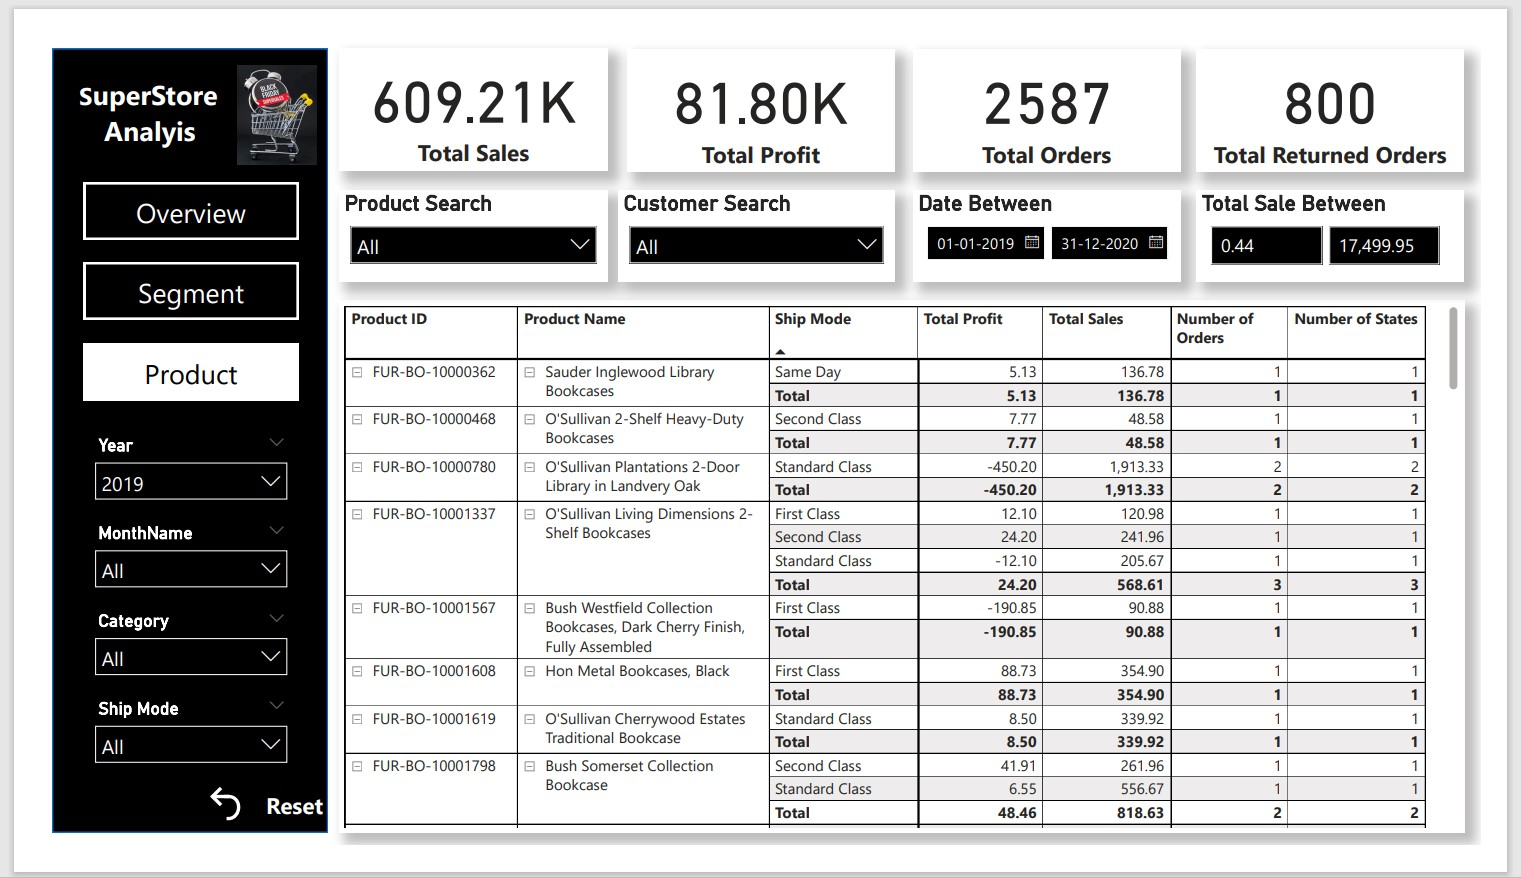

What the dashboard file says about the page in this screenshot:
{"tool":"powerbi","page":{"name":"Product","canvas":[1280,720],"ordinal":1},"visuals":[{"type":"shape","title":"SUPERSTORE","box":[9.8,12.2,245.7,696.8],"z":0},{"type":"textbox","box":[29.3,30.6,135.7,79.5],"z":1000},{"type":"image","box":[165,22,90.5,97.8],"z":2000},{"type":"actionButton","box":[37.9,130.8,190.7,51.3],"z":3000},{"type":"actionButton","box":[37.9,265.3,190.7,51.3],"z":4000},{"type":"actionButton","box":[37.9,193.1,190.7,51.3],"z":5000},{"type":"slicer","fields":{"Values":["Orders.Year"]},"box":[37.9,349.6,190.7,68.5],"z":6000},{"type":"slicer","fields":{"Values":["Orders.MonthName"]},"box":[37.9,427.8,190.7,78.2],"z":7000},{"type":"slicer","fields":{"Values":["Orders.Category"]},"box":[37.9,506.1,190.7,78.2],"z":8000},{"type":"slicer","fields":{"Values":["Orders.Ship Mode"]},"box":[37.9,584.3,190.7,78.2],"z":9000},{"type":"card","fields":{"Values":["Orders.Total Sales"]},"box":[265.3,12.2,238.4,108.8],"z":10000},{"type":"card","fields":{"Values":["Orders.Total Profit"]},"box":[520.7,13.4,238.4,108.8],"z":11000},{"type":"card","fields":{"Values":["CountNonNull(Orders.Order ID)"]},"box":[775,13.4,238.4,108.8],"z":12000},{"type":"card","fields":{"Values":["CountNonNull(Returns.Order ID)"]},"box":[1026.8,13.4,238.4,108.8],"z":13000},{"type":"pivotTable","fields":{"Rows":["Orders.Product ID","Orders.Product Name","Orders.Ship Mode"],"Values":["Orders.Total Profit","Orders.Total Sales","Count(Orders.Order ID)","CountNonNull(Orders.State)"]},"box":[265,236.2,1000,472.5],"z":14000},{"type":"slicer","title":"Product Search","fields":{"Values":["Orders.Product ID"]},"box":[265.3,138.1,238.4,80.7],"z":15000},{"type":"slicer","title":"Customer Search","fields":{"Values":["Orders.Customer ID"]},"box":[513.4,138.1,245.7,80.7],"z":16000},{"type":"slicer","title":"Date Between","fields":{"Values":["Orders.Ship Date"]},"box":[775,138.1,238.4,80.7],"z":17000},{"type":"slicer","title":"Total Sale Between","fields":{"Values":["Orders.Sales"]},"box":[1026.8,138.1,238.4,80.7],"z":18000},{"type":"actionButton","title":"Reset","box":[144.2,662.5,111.2,40.3],"z":19001}]}

Visuals, with their boxes in screenshot pixels (x1, y1, x2, y2), scaled from the page's 1280x720 canvas onto the 1521x878 screenshot:
"SUPERSTORE" shape: {"x1": 12, "y1": 15, "x2": 304, "y2": 865}
textbox: {"x1": 35, "y1": 37, "x2": 196, "y2": 134}
image: {"x1": 196, "y1": 27, "x2": 304, "y2": 146}
actionButton: {"x1": 45, "y1": 160, "x2": 272, "y2": 222}
actionButton: {"x1": 45, "y1": 324, "x2": 272, "y2": 386}
actionButton: {"x1": 45, "y1": 235, "x2": 272, "y2": 298}
slicer - Orders.Year: {"x1": 45, "y1": 426, "x2": 272, "y2": 510}
slicer - Orders.MonthName: {"x1": 45, "y1": 522, "x2": 272, "y2": 617}
slicer - Orders.Category: {"x1": 45, "y1": 617, "x2": 272, "y2": 713}
slicer - Orders.Ship Mode: {"x1": 45, "y1": 713, "x2": 272, "y2": 808}
card - Orders.Total Sales: {"x1": 315, "y1": 15, "x2": 599, "y2": 148}
card - Orders.Total Profit: {"x1": 619, "y1": 16, "x2": 902, "y2": 149}
card - CountNonNull(Orders.Order ID): {"x1": 921, "y1": 16, "x2": 1204, "y2": 149}
card - CountNonNull(Returns.Order ID): {"x1": 1220, "y1": 16, "x2": 1503, "y2": 149}
pivotTable - Orders.Product ID x Orders.Product Name: {"x1": 315, "y1": 288, "x2": 1503, "y2": 864}
"Product Search" slicer: {"x1": 315, "y1": 168, "x2": 599, "y2": 267}
"Customer Search" slicer: {"x1": 610, "y1": 168, "x2": 902, "y2": 267}
"Date Between" slicer: {"x1": 921, "y1": 168, "x2": 1204, "y2": 267}
"Total Sale Between" slicer: {"x1": 1220, "y1": 168, "x2": 1503, "y2": 267}
"Reset" actionButton: {"x1": 171, "y1": 808, "x2": 303, "y2": 857}
